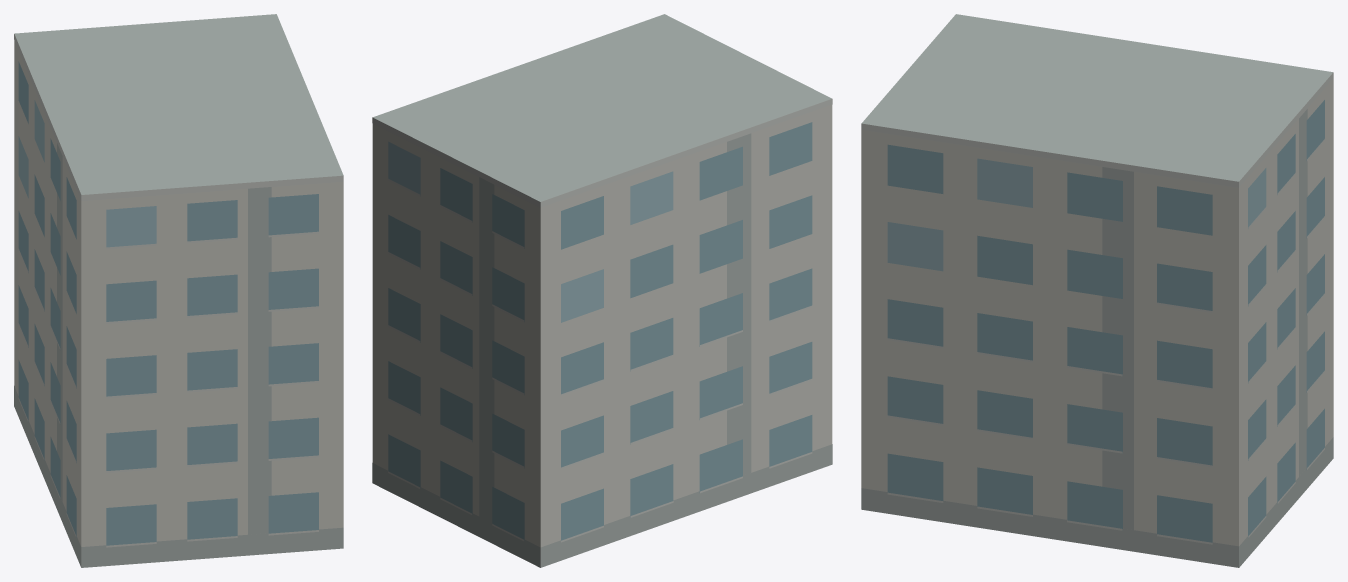
Rendered from residential-7c9e8434-1ac4-4cea-9d2e-d19f73e6c6eb.glb.
The picture shows the model from 3 angles, left to right: view 1: azimuth 30°, elevation 25°; view 2: azimuth 150°, elevation 25°; view 3: azimuth 270°, elevation 25°; orthographic projection. The views are drawn at different scales.
Parts seen in each view (by area): view 1: residential-7c9e8434-1ac4-4cea-9d2e-d19f73e6c6eb.tmp; view 2: residential-7c9e8434-1ac4-4cea-9d2e-d19f73e6c6eb.tmp; view 3: residential-7c9e8434-1ac4-4cea-9d2e-d19f73e6c6eb.tmp.
Part boxes in pixels (box(x1,y1,x2,y2)): residential-7c9e8434-1ac4-4cea-9d2e-d19f73e6c6eb.tmp: box(14, 14, 343, 567); residential-7c9e8434-1ac4-4cea-9d2e-d19f73e6c6eb.tmp: box(372, 14, 832, 567); residential-7c9e8434-1ac4-4cea-9d2e-d19f73e6c6eb.tmp: box(861, 14, 1333, 567).
Size of the model in its own units: 14.22 by 15.25 by 16.91.
